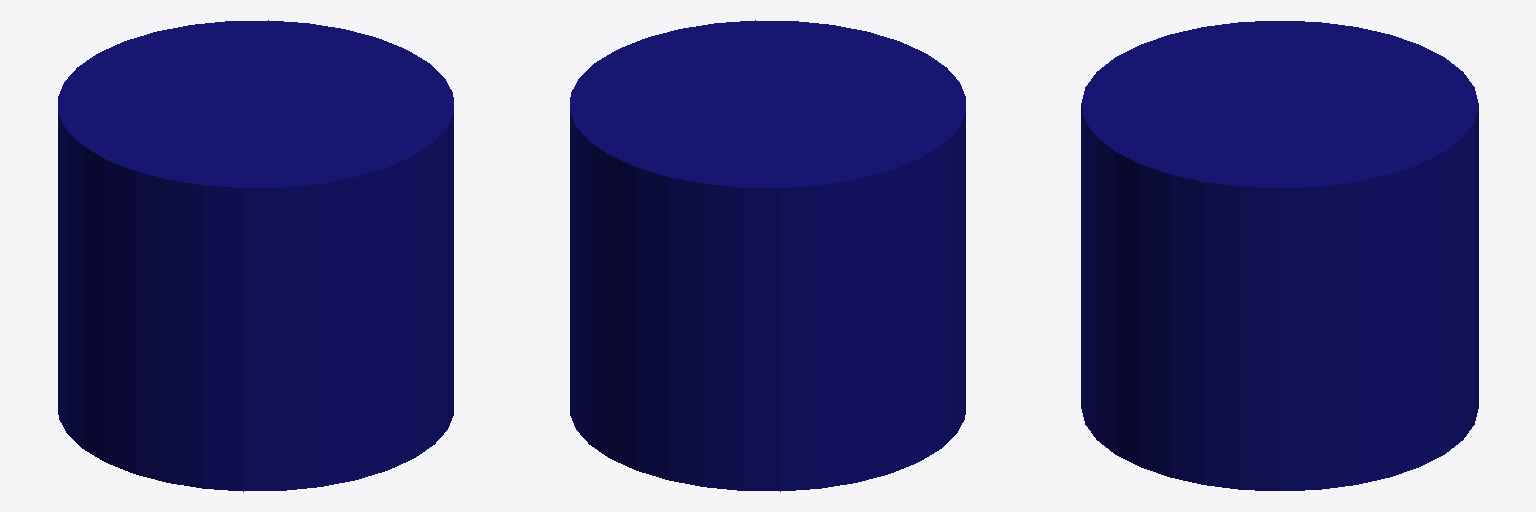
URDF robot description (car):
<?xml version="1.0" ?>
<!-- TODO: Add GPS sensor -->
<robot name="car">
  <material name="black">
    <color rgba="0.2 0.2 0.2 1"/>
  </material>
  <material name="blue">
    <color rgba="0.1 0.1 0.5 1"/>
  </material>

  <!-- base_link relates to its projection on the ground by this offset:
    <origin xyz="0 0 0.31" rpy="0 0 0"/>
  -->

  <link name="base_link">
    <visual>
      <geometry>
        <mesh filename="package://tritonkart_description/meshes/kart.stl" scale="0.02 0.02 0.02"/>
         <!-- scale="0.001 0.001 0.001"/> -->
      </geometry>
      <material name="black"/>
      <origin xyz="0.83 0 0.31" rpy="0 0 1.570796"/>
    </visual>
    <collision>
      <geometry>
        <box size="5.5 2.25 2"/>
      </geometry>
      <origin xyz="0.83 0 0.31" rpy="0 0 0"/>
    </collision>
    <inertial>
      <!-- TODO: Get or calculate inertia values -->
      <origin xyz="0 0 0.013" rpy="0 0 0"/>
      <mass value="0.25"/>
      <inertia ixx="0.0003350833" ixy="0" ixz="0"
        iyy="0.000560417" iyz="0"
        izz="0.000478833"/>
    </inertial>
  </link>

  <!-- Center of Gravity link -->
  <link name="nav_base"/>

  <joint name="nav_base_joint" type="fixed">
    <parent link="base_link"/>
    <child link="nav_base"/>
    <origin xyz="1.5618 0 0" rpy="0 0 0"/>
  </joint>

  <link name="imu"/>

  <joint name="imu_joint" type="fixed">
    <parent link="base_link"/>
    <child link="imu"/>
    <origin xyz="0 0 0" rpy="0 0 0"/>
  </joint>

  <link name="gnss"/>

  <joint name="gnss_joint" type="fixed">
    <parent link="base_link"/>
    <child link="gnss"/>
    <origin xyz="0 0 0" rpy="0 0 0"/>
  </joint>

  <link name="odom_link"/>

  <joint name="odom_joint" type="fixed">
    <parent link="base_link"/>
    <child link="odom_link"/>
    <origin xyz="0 0 0" rpy="0 0 0"/>
  </joint>

  <link name="lidar">
    <visual>
      <geometry>
        <cylinder length="0.0869" radius="0.05165"/>
        <!-- <mesh filename="package://tritonkart_description/meshes/rs-bpearl.stl" scale="0.02 0.02 0.02"/> -->
      </geometry>
      <material name="blue"/>
    </visual>
    <collision>
      <geometry>
        <cylinder length="0.0869" radius="0.05165"/>
      </geometry>
    </collision>
    <inertial>
      <!-- TODO: Get or calculate inertia values -->
      <mass value="0.1"/>
      <inertia ixx="1.02083e-5" ixy="0" ixz="0"
        iyy="1.02083e-5" iyz="0"
        izz="2e-5"/>
    </inertial>
  </link>

  <joint name="lidar_joint" type="fixed">
    <parent link="base_link"/>
    <child link="lidar"/>
    <!-- <origin xyz="1.498 -0.022 1.49" rpy="0 0 0"/> -->
    <origin xyz="1.7 -0.022 1.2" rpy="0 0 0"/>
  </joint>

  <link name="color_camera">
    <visual>
      <geometry>
        <mesh filename="package://tritonkart_description/meshes/zed2.stl" scale="0.002 0.002 0.002"/>
      </geometry>
      <material name="blue"/>
    </visual>
    <collision>
      <geometry>
        <cylinder length="0.0869" radius="0.05165"/>
      </geometry>
    </collision>
    <inertial>
      <!-- TODO: Get or calculate inertia values -->
      <mass value="0.1"/>
      <inertia ixx="1.02083e-5" ixy="0" ixz="0"
        iyy="1.02083e-5" iyz="0"
        izz="2e-5"/>
    </inertial>
  </link>

  <joint name="camera_joint" type="fixed">
    <parent link="base_link"/>
    <child link="color_camera"/>
    <origin xyz="2.4 -0.022 0.8" rpy="0 0 4.712"/>
  </joint>  
</robot>

--- Facts derived from the render (not from the file) ---
Views: 3 orthographic renders of the robot side by side, from view 1: azimuth 30°, elevation 25°; view 2: azimuth 150°, elevation 25°; view 3: azimuth 270°, elevation 25°.
Robot: car — 7 links, 6 joints (6 fixed); root link base_link; default pose: all joints at 0.
Links seen in each view (by area): view 1: lidar; view 2: lidar; view 3: lidar.
Boxes of the visible links, box(x1,y1,x2,y2) form: lidar: box(58, 20, 453, 491); lidar: box(570, 20, 965, 491); lidar: box(1081, 21, 1478, 490).
Size in the robot's own frame: 0.1033 by 0.1033 by 0.0869 metres.
Meshes: 2 distinct files referenced, 0 mesh visuals loaded (none loaded); not drawn: 2 (reference not matched to a file when rendering).